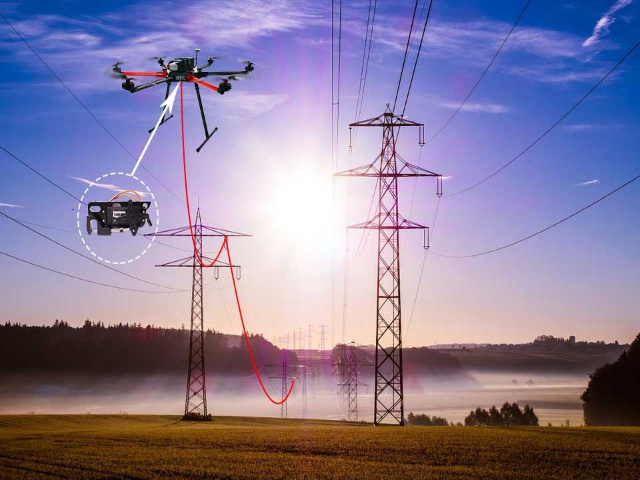drone: (104, 40, 261, 157)
